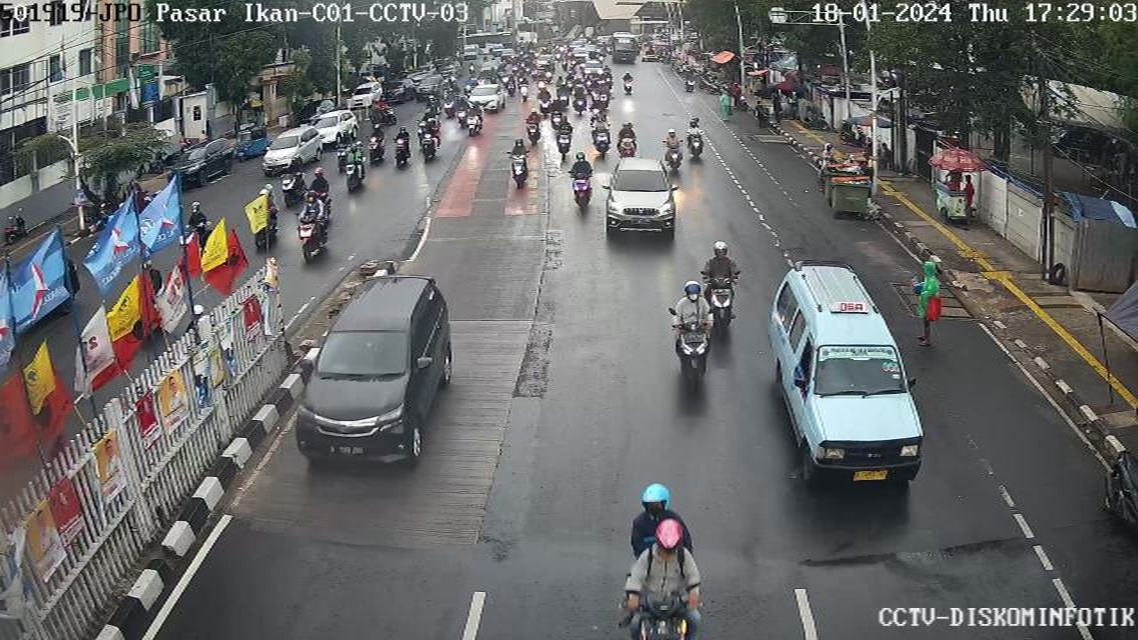Gerobak: (932, 179, 992, 233)
